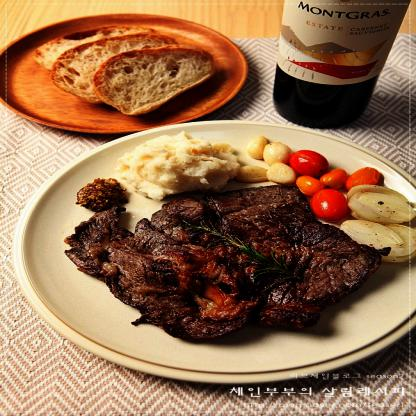Carne: (188, 182, 385, 334), (68, 202, 265, 340)
